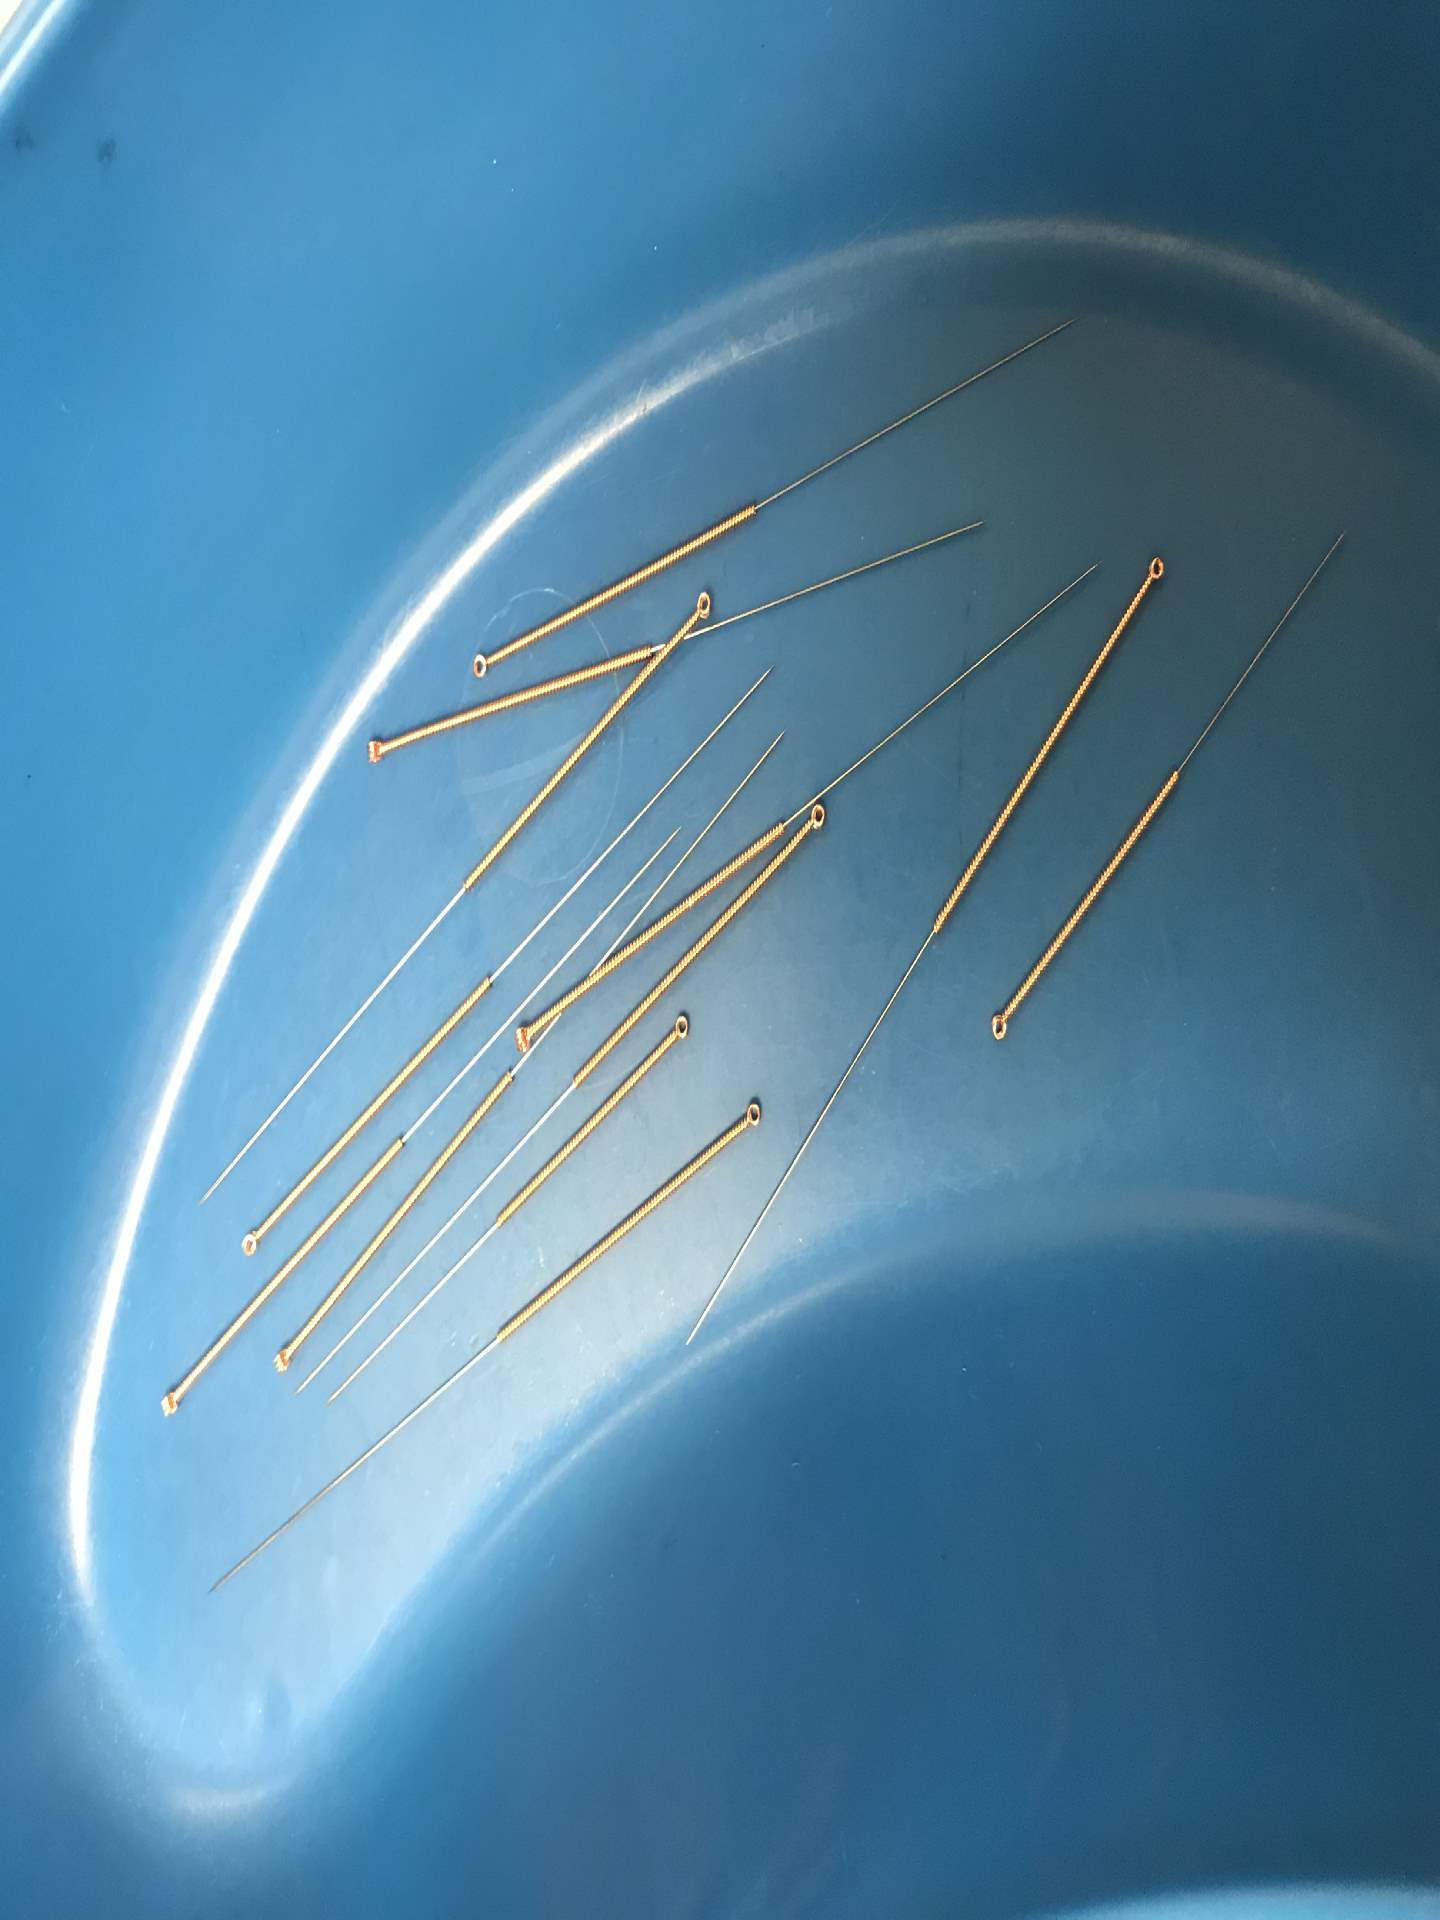needle: (982, 995, 1019, 1048), (796, 792, 833, 841), (355, 726, 393, 773), (1137, 546, 1172, 596), (262, 1336, 299, 1382), (151, 1380, 188, 1427), (681, 584, 718, 627), (507, 1014, 542, 1061), (732, 1092, 768, 1135), (464, 644, 498, 688), (664, 1007, 696, 1051), (233, 1222, 263, 1265)
